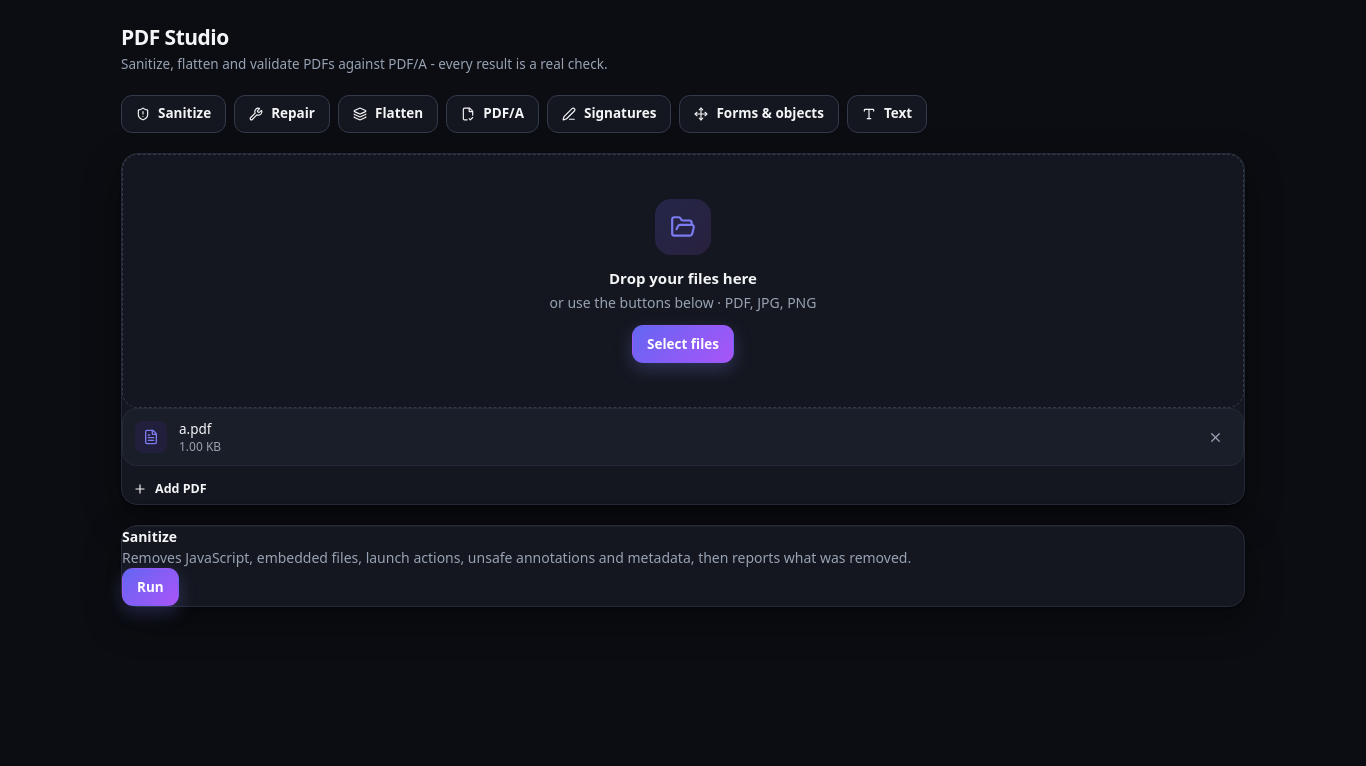
PDF Studio Forms & objects › shows backend validation issues per field
The width and height of the screenshot is (1366, 766).
Click the button "Forms & objects".
click(759, 114)  # box [679, 94, 839, 132]
(page scrolled)
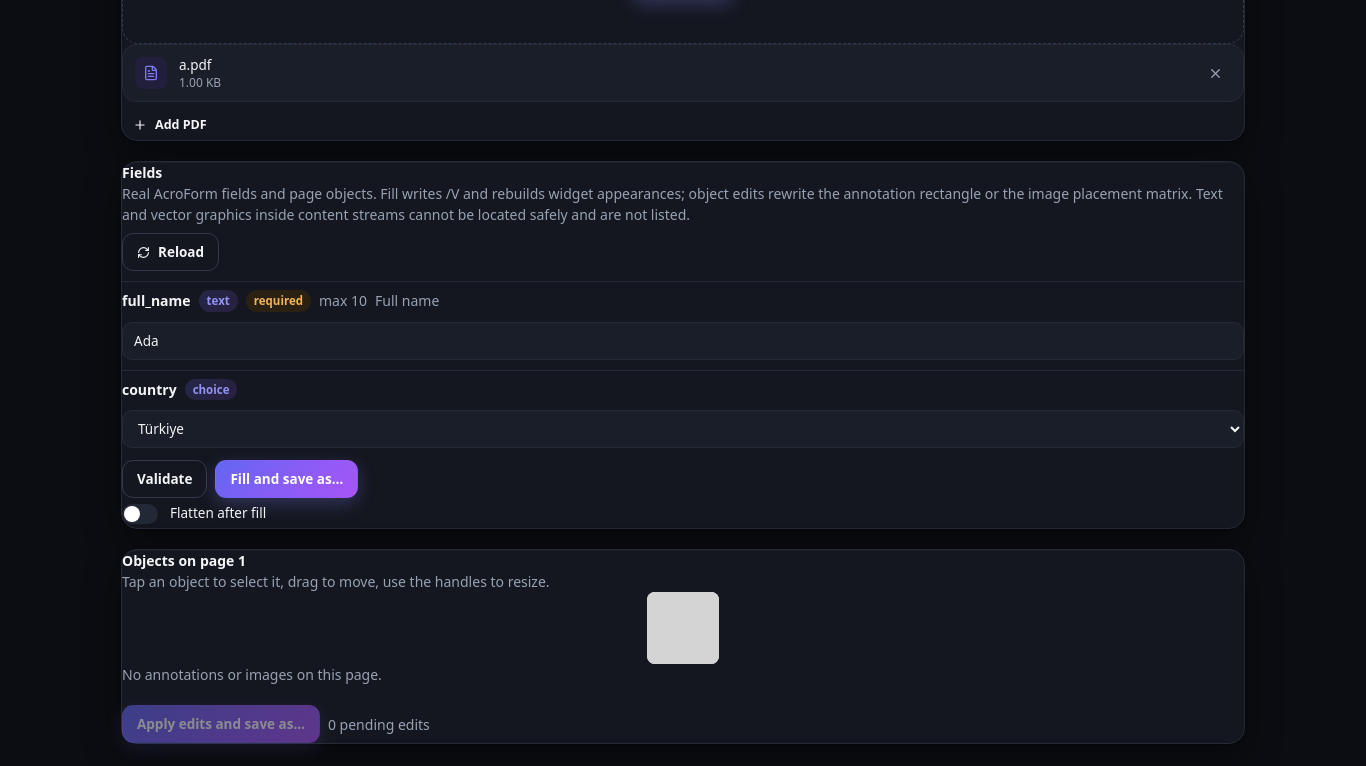
Expected: the text "full_name" is shown, [122, 290, 191, 311]
Click the button "Validate".
click(165, 479)  # box [122, 460, 207, 498]
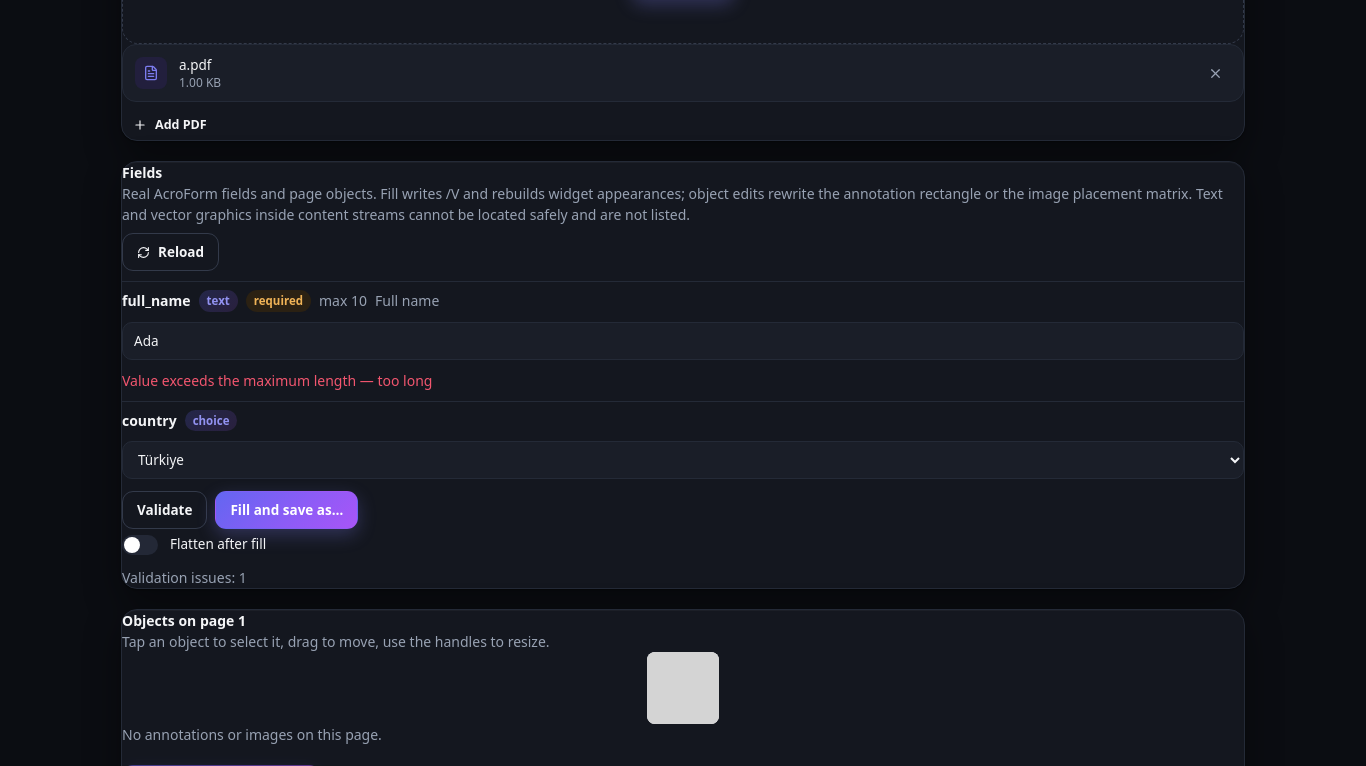
Expected: the text "Value exceeds the maximum length — too long" is shown, [122, 371, 432, 390]
